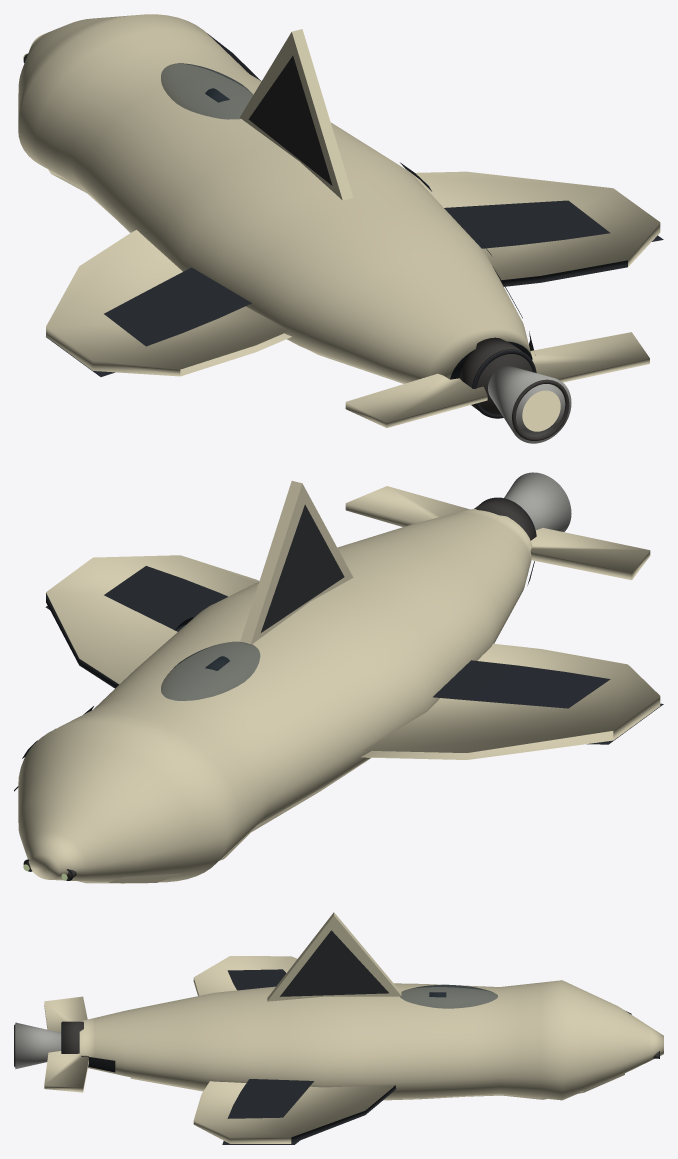
File: Ship_Orca_743275.glb
The picture shows the model from 3 angles, top to bottom: view 1: azimuth 30°, elevation 25°; view 2: azimuth 150°, elevation 25°; view 3: azimuth 270°, elevation 25°; orthographic projection. The views are drawn at different scales.
Parts seen in each view (by area): view 1: Fuselage_OrcaCountershadedHull, PectoralFin_Left_AerofoilWingFin, PectoralFin_Right_AerofoilWingFin, PectoralFinPaint_Left_BroadSimplePanelTop, PectoralFinPaint_Right_BroadSimplePanelTop, DorsalFin_MainSweptKeel, TailFluke_Left_SweptAftStabilizer, DorsalFinTrimPatch_LeftFace, TailFluke_Right_SweptAftStabilizer, CanopyGlass_LowInsetDome, EngineBell_MainLargeBurnishedNozzle, EngineMount_AftIntegratedRoundSocket (+2 smaller); view 2: Fuselage_OrcaCountershadedHull, PectoralFin_Left_AerofoilWingFin, PectoralFin_Right_AerofoilWingFin, PectoralFinPaint_Left_BroadSimplePanelTop, DorsalFin_MainSweptKeel, DorsalFinTrimPatch_LeftFace, PectoralFinPaint_Right_BroadSimplePanelTop, CanopyGlass_LowInsetDome, TailFluke_Left_SweptAftStabilizer, TailFluke_Right_SweptAftStabilizer, EngineBell_MainLargeBurnishedNozzle, PaintBelly_LongCountershadeKeelPatch (+1 smaller); view 3: Fuselage_OrcaCountershadedHull, PectoralFin_Right_AerofoilWingFin, DorsalFinTrimPatch_RightFace, DorsalFin_MainSweptKeel, PectoralFinPaint_Right_BroadSimplePanelTop, PectoralFin_Left_AerofoilWingFin, CanopyGlass_LowInsetDome, EngineBell_MainLargeBurnishedNozzle, TailFluke_Right_SweptAftStabilizer, TailFluke_Left_SweptAftStabilizer, PectoralFinPaint_Left_BroadSimplePanelTop, EngineMount_AftIntegratedRoundSocket (+1 smaller).
Boxes of the visible parts, bbox=[...] form: Fuselage_OrcaCountershadedHull: bbox=[18, 14, 532, 382]; PectoralFin_Left_AerofoilWingFin: bbox=[46, 230, 291, 376]; PectoralFin_Right_AerofoilWingFin: bbox=[411, 171, 660, 286]; PectoralFinPaint_Left_BroadSimplePanelTop: bbox=[104, 267, 251, 346]; PectoralFinPaint_Right_BroadSimplePanelTop: bbox=[444, 200, 610, 248]; DorsalFin_MainSweptKeel: bbox=[240, 29, 353, 200]; TailFluke_Left_SweptAftStabilizer: bbox=[345, 373, 487, 427]; DorsalFinTrimPatch_LeftFace: bbox=[248, 56, 332, 185]; TailFluke_Right_SweptAftStabilizer: bbox=[530, 332, 649, 382]; CanopyGlass_LowInsetDome: bbox=[161, 63, 252, 119]; EngineBell_MainLargeBurnishedNozzle: bbox=[488, 366, 571, 443]; EngineMount_AftIntegratedRoundSocket: bbox=[459, 337, 536, 418]; Fuselage_OrcaCountershadedHull: bbox=[18, 509, 532, 882]; PectoralFin_Left_AerofoilWingFin: bbox=[361, 643, 660, 759]; PectoralFin_Right_AerofoilWingFin: bbox=[46, 555, 259, 688]; PectoralFinPaint_Left_BroadSimplePanelTop: bbox=[433, 660, 610, 708]; DorsalFin_MainSweptKeel: bbox=[240, 481, 353, 645]; DorsalFinTrimPatch_LeftFace: bbox=[261, 504, 344, 632]; PectoralFinPaint_Right_BroadSimplePanelTop: bbox=[104, 566, 227, 631]; CanopyGlass_LowInsetDome: bbox=[161, 641, 260, 700]; TailFluke_Left_SweptAftStabilizer: bbox=[530, 528, 650, 580]; TailFluke_Right_SweptAftStabilizer: bbox=[345, 486, 469, 526]; EngineBell_MainLargeBurnishedNozzle: bbox=[504, 472, 571, 531]; PaintBelly_LongCountershadeKeelPatch: bbox=[77, 757, 371, 883]; Fuselage_OrcaCountershadedHull: bbox=[79, 980, 663, 1100]; PectoralFin_Right_AerofoilWingFin: bbox=[193, 1081, 396, 1143]; DorsalFinTrimPatch_RightFace: bbox=[280, 930, 388, 996]; DorsalFin_MainSweptKeel: bbox=[267, 912, 401, 1001]; PectoralFinPaint_Right_BroadSimplePanelTop: bbox=[227, 1079, 313, 1118]; PectoralFin_Left_AerofoilWingFin: bbox=[193, 956, 297, 995]; CanopyGlass_LowInsetDome: bbox=[400, 984, 497, 1008]; EngineBell_MainLargeBurnishedNozzle: bbox=[15, 1022, 61, 1069]; TailFluke_Right_SweptAftStabilizer: bbox=[44, 1051, 88, 1092]; TailFluke_Left_SweptAftStabilizer: bbox=[44, 996, 87, 1032]; PectoralFinPaint_Left_BroadSimplePanelTop: bbox=[227, 969, 286, 990]; EngineMount_AftIntegratedRoundSocket: bbox=[62, 1021, 83, 1053].
Bounding box in the file's own units: 5.08 × 2.29 × 7.71.
